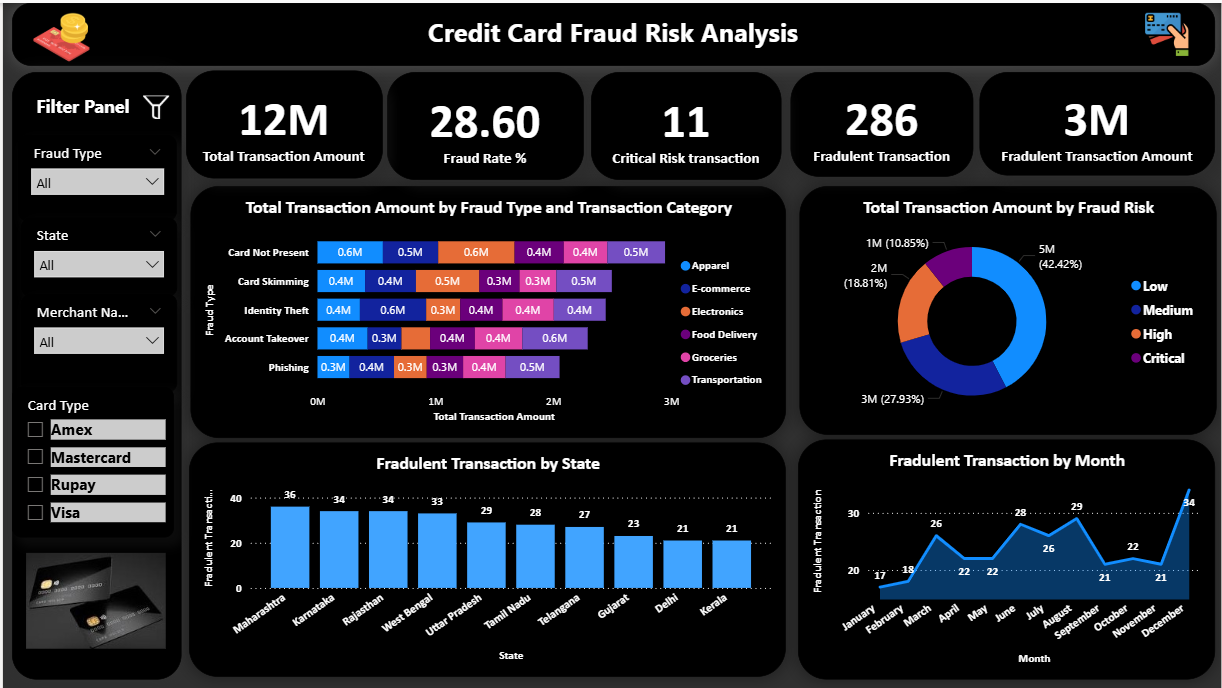

The dashboard page shown, as its layout file describes it:
{"tool":"powerbi","page":{"name":"Credit Card Fraud Analysis","canvas":[1280,720],"ordinal":0},"visuals":[{"type":"textbox","box":[9.5,0,1263.2,66.2],"z":0},{"type":"shape","box":[9.5,72.5,178,637.9],"z":1000},{"type":"textbox","box":[30.2,89.2,128,37.4],"z":2000},{"type":"image","box":[142.4,71.9,37.4,73.3],"z":3000},{"type":"barChart","fields":{"Y":["Credit Card Fraud Risk Analysis.Total Transaction Amount"],"Series":["Credit Card Fraud Risk Analysis.Transaction Category"],"Category":["Credit Card Fraud Risk Analysis.Fraud Type"]},"box":[196.9,192.2,625.3,264.6],"z":4000},{"type":"donutChart","fields":{"Y":["Credit Card Fraud Risk Analysis.Total Transaction Amount"],"Category":["Credit Card Fraud Risk Analysis.Fraud Risk"]},"box":[836.4,192.2,437.9,261.5],"z":5000},{"type":"columnChart","fields":{"Category":["Credit Card Fraud Risk Analysis.State"],"Y":["Credit Card Fraud Risk Analysis.Fradulent Transaction"]},"box":[195.3,461.5,626.9,245.7],"z":6000},{"type":"lineChart","fields":{"Y":["Credit Card Fraud Risk Analysis.Fradulent Transaction"],"Category":["Credit Card Fraud Risk Analysis.Transaction Date.Variation.Date Hierarchy.Month"]},"box":[834.8,458.3,437.9,252],"z":7000},{"type":"slicer","fields":{"Values":["Credit Card Fraud Risk Analysis.Fraud Type"]},"box":[15.8,138.1,166.8,90.6],"z":8000},{"type":"slicer","fields":{"Values":["Credit Card Fraud Risk Analysis.State"]},"box":[18.7,225.8,163.9,83.4],"z":9000},{"type":"slicer","fields":{"Values":["Credit Card Fraud Risk Analysis.Merchant Name"]},"box":[18.7,306.3,163.9,103.5],"z":10000},{"type":"card","fields":{"Values":["Credit Card Fraud Risk Analysis.Fraud Rate %"]},"box":[403.2,72.5,206.3,113.4],"z":11000},{"type":"card","fields":{"Values":["Credit Card Fraud Risk Analysis.Fradulent Transaction"]},"box":[826.9,72.5,192.2,110.3],"z":12000},{"type":"card","fields":{"Values":["Credit Card Fraud Risk Analysis.Critical Risk transaction"]},"box":[617.4,72.5,200,113.4],"z":13000},{"type":"card","fields":{"Values":["Credit Card Fraud Risk Analysis.Fradulent Transaction Amount"]},"box":[1025.4,72.5,247.3,108.7],"z":14000},{"type":"card","fields":{"Values":["Credit Card Fraud Risk Analysis.Total Transaction Amount"]},"box":[192.2,70.9,206.3,113.4],"z":15000},{"type":"slicer","fields":{"Values":["Credit Card Fraud Risk Analysis.Card Type"]},"box":[10.1,402.7,169.7,158.2],"z":16000},{"type":"image","box":[18.7,560.9,156.8,133.7],"z":17000},{"type":"image","box":[1192.2,0,59,66.2],"z":18000},{"type":"image","box":[21.6,0,79.1,71.9],"z":18001}]}

Visuals, with their boxes in screenshot pixels (x1, y1, x2, y2), scaled from the page's 1280x720 canvas onto the 1222x688 screenshot:
textbox: (9, 0, 1215, 63)
shape: (9, 69, 179, 679)
textbox: (29, 85, 151, 121)
image: (136, 69, 172, 139)
barChart - Credit Card Fraud Risk Analysis.Total Transaction Amount x Credit Card Fraud Risk Analysis.Transaction Category: (188, 184, 785, 436)
donutChart - Credit Card Fraud Risk Analysis.Total Transaction Amount x Credit Card Fraud Risk Analysis.Fraud Risk: (799, 184, 1217, 434)
columnChart - Credit Card Fraud Risk Analysis.State x Credit Card Fraud Risk Analysis.Fradulent Transaction: (186, 441, 785, 676)
lineChart - Credit Card Fraud Risk Analysis.Fradulent Transaction x Credit Card Fraud Risk Analysis.Transaction Date.Variation.Date Hierarchy.Month: (797, 438, 1215, 679)
slicer - Credit Card Fraud Risk Analysis.Fraud Type: (15, 132, 174, 219)
slicer - Credit Card Fraud Risk Analysis.State: (18, 216, 174, 295)
slicer - Credit Card Fraud Risk Analysis.Merchant Name: (18, 293, 174, 392)
card - Credit Card Fraud Risk Analysis.Fraud Rate %: (385, 69, 582, 178)
card - Credit Card Fraud Risk Analysis.Fradulent Transaction: (789, 69, 973, 175)
card - Credit Card Fraud Risk Analysis.Critical Risk transaction: (589, 69, 780, 178)
card - Credit Card Fraud Risk Analysis.Fradulent Transaction Amount: (979, 69, 1215, 173)
card - Credit Card Fraud Risk Analysis.Total Transaction Amount: (183, 68, 380, 176)
slicer - Credit Card Fraud Risk Analysis.Card Type: (10, 385, 172, 536)
image: (18, 536, 168, 664)
image: (1138, 0, 1195, 63)
image: (21, 0, 96, 69)
